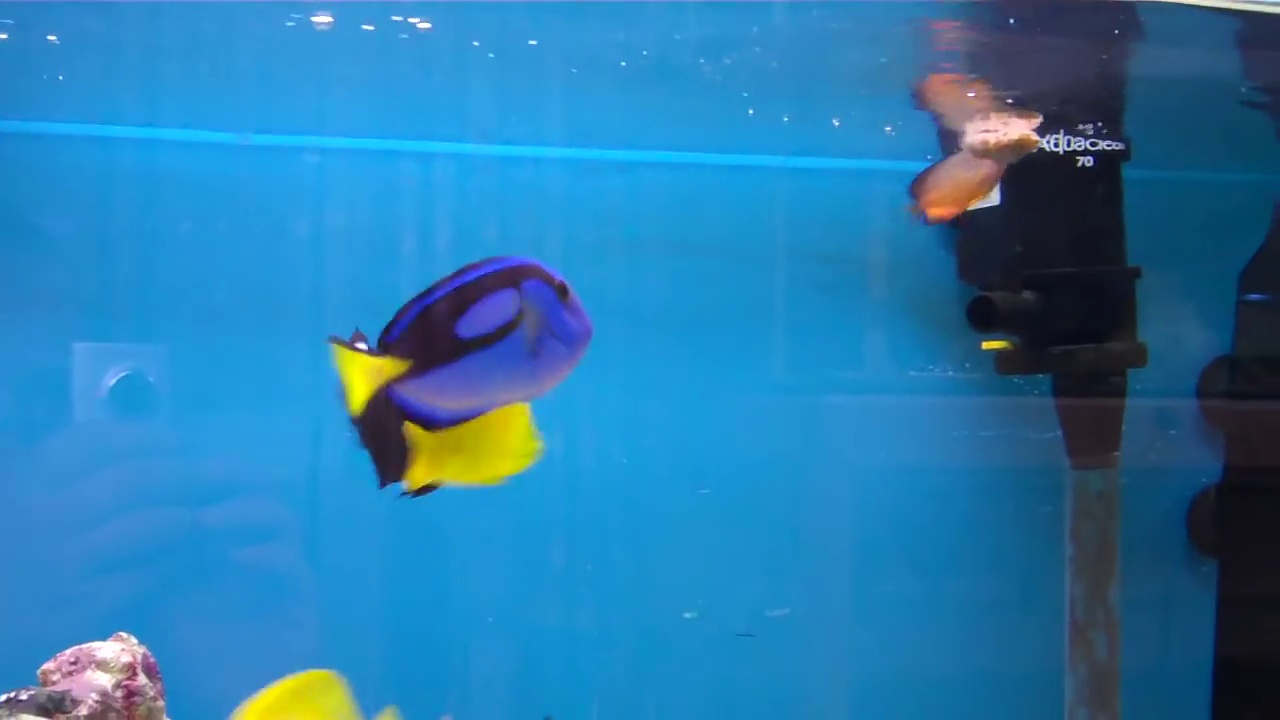blue tang surgeonfish: (302, 240, 609, 436)
